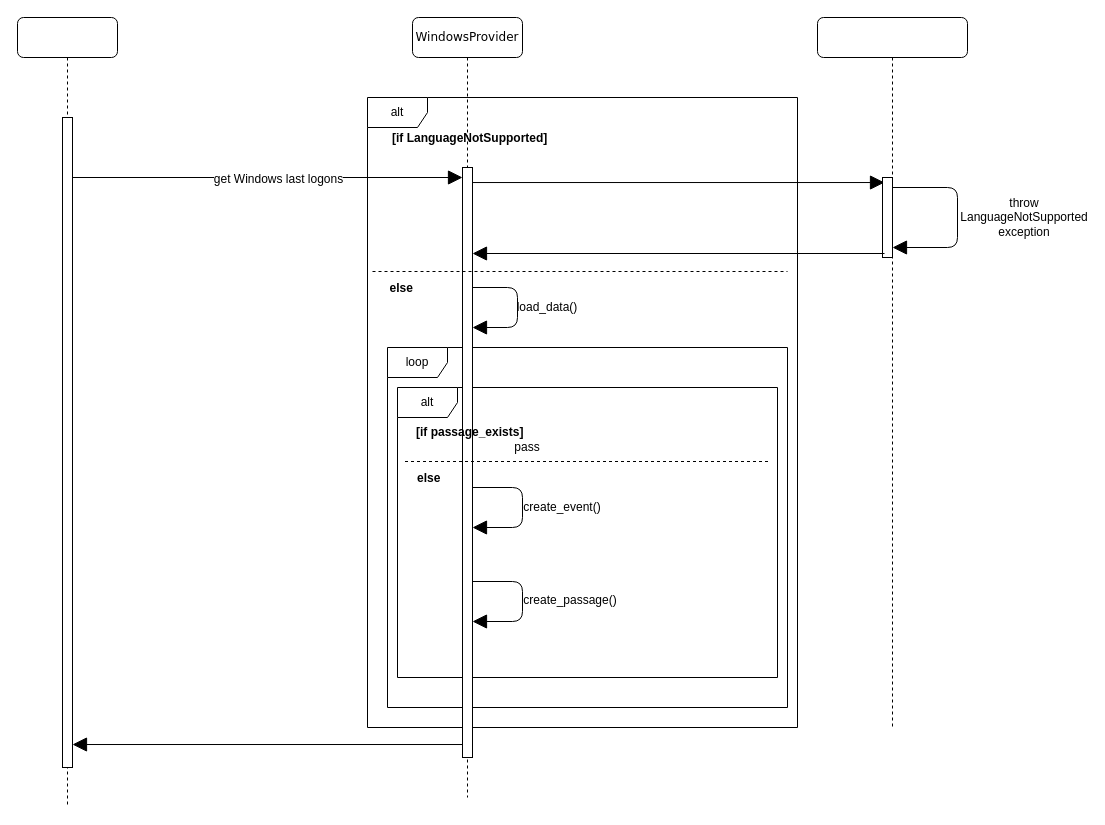
Some shapes in this 1105 by 825 pixel diagram are drawn without their labels. The box of each missing label's shape, as (x1, y1, x2, y2) in pixels:
LanguageNotSupported: (816, 16, 968, 728)
User: (16, 16, 118, 808)
